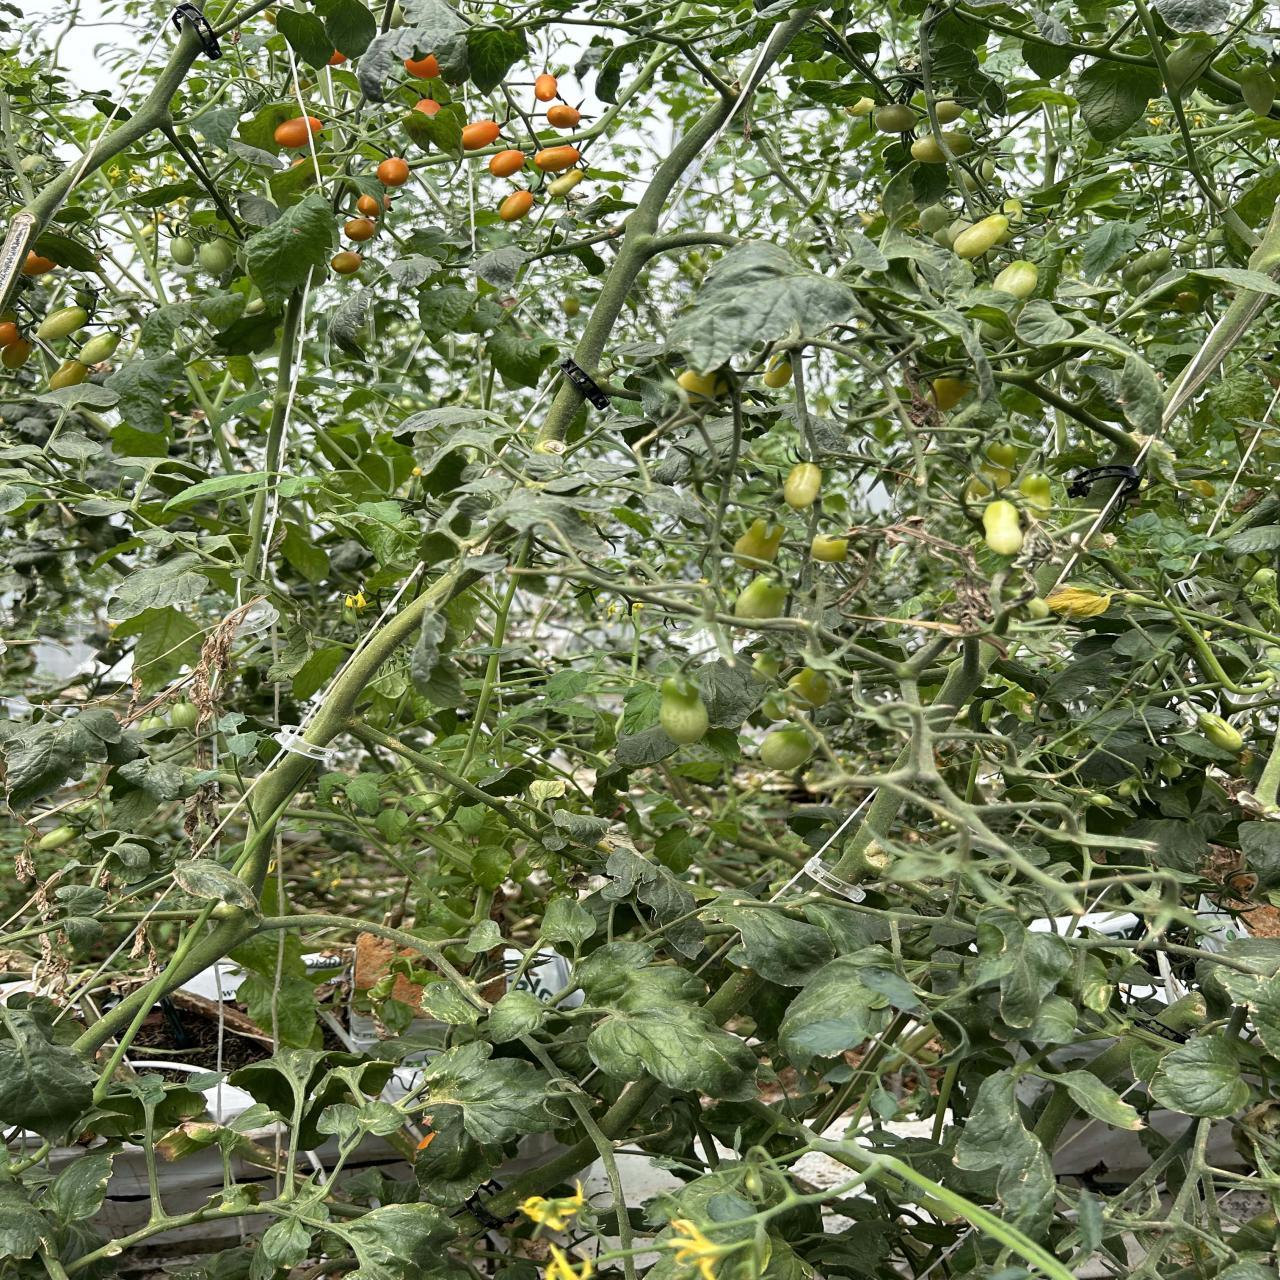Flor: (667, 1219, 728, 1280)
Flor rugoso: (518, 1189, 583, 1231), (544, 1244, 594, 1280)
Hoja: (488, 990, 549, 1042)
Hoja rugoso: (579, 942, 757, 1099), (666, 240, 858, 372), (245, 196, 338, 314), (433, 1058, 560, 1144), (325, 1203, 456, 1280), (104, 354, 185, 434), (695, 661, 767, 730), (316, 1099, 407, 1146), (172, 859, 257, 908), (486, 331, 558, 387), (1042, 649, 1112, 703), (418, 286, 472, 342), (328, 290, 370, 361), (139, 304, 192, 359), (614, 724, 678, 768), (422, 980, 483, 1024), (470, 246, 530, 291), (1153, 0, 1231, 34), (1046, 583, 1114, 617), (387, 254, 442, 291), (198, 292, 245, 329)
Pedunculo: (231, 561, 472, 901), (72, 900, 258, 1058)
Pedunculo rugoso: (574, 101, 736, 370), (260, 913, 474, 999), (779, 946, 925, 1061), (1162, 286, 1273, 431), (723, 907, 833, 986), (1248, 197, 1280, 285), (543, 381, 580, 438)
Tomate: (36, 306, 88, 340), (274, 116, 322, 148), (198, 238, 236, 275), (80, 333, 120, 366), (535, 144, 580, 171), (462, 120, 499, 150), (488, 149, 525, 177), (376, 157, 409, 186), (404, 54, 440, 79), (356, 193, 390, 218), (546, 105, 580, 129), (329, 250, 361, 274), (169, 237, 195, 266), (343, 218, 375, 241), (535, 73, 558, 101), (414, 98, 442, 116)
Tomate Rugoso: (659, 676, 708, 744), (1166, 33, 1217, 95), (953, 213, 1010, 259), (733, 519, 784, 568), (734, 576, 788, 619), (982, 499, 1023, 556), (760, 728, 812, 771), (676, 367, 738, 400), (1198, 712, 1244, 753), (783, 462, 822, 509), (1240, 66, 1275, 116), (993, 260, 1037, 299), (911, 135, 972, 163), (925, 376, 967, 410), (874, 104, 918, 132), (49, 360, 88, 390), (810, 533, 847, 563), (761, 354, 792, 388), (498, 190, 533, 220), (547, 168, 583, 197), (919, 203, 949, 234), (0, 340, 32, 368), (21, 251, 56, 275), (935, 100, 962, 124), (0, 321, 20, 348)
